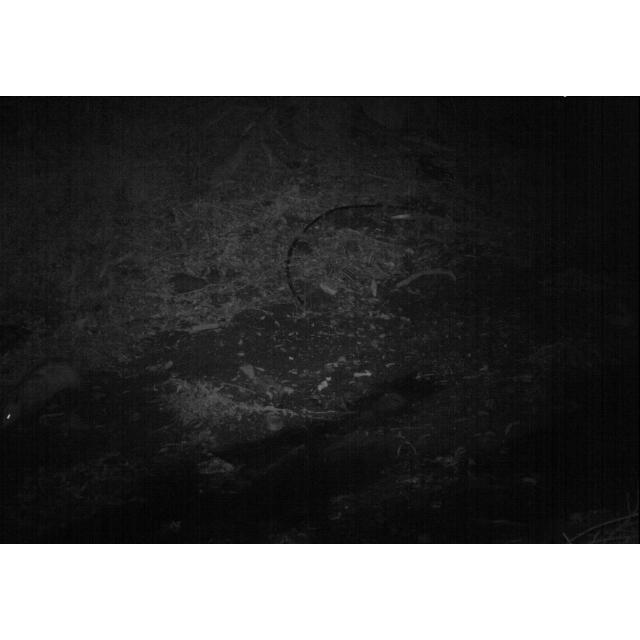animals: (0, 358, 84, 429)
